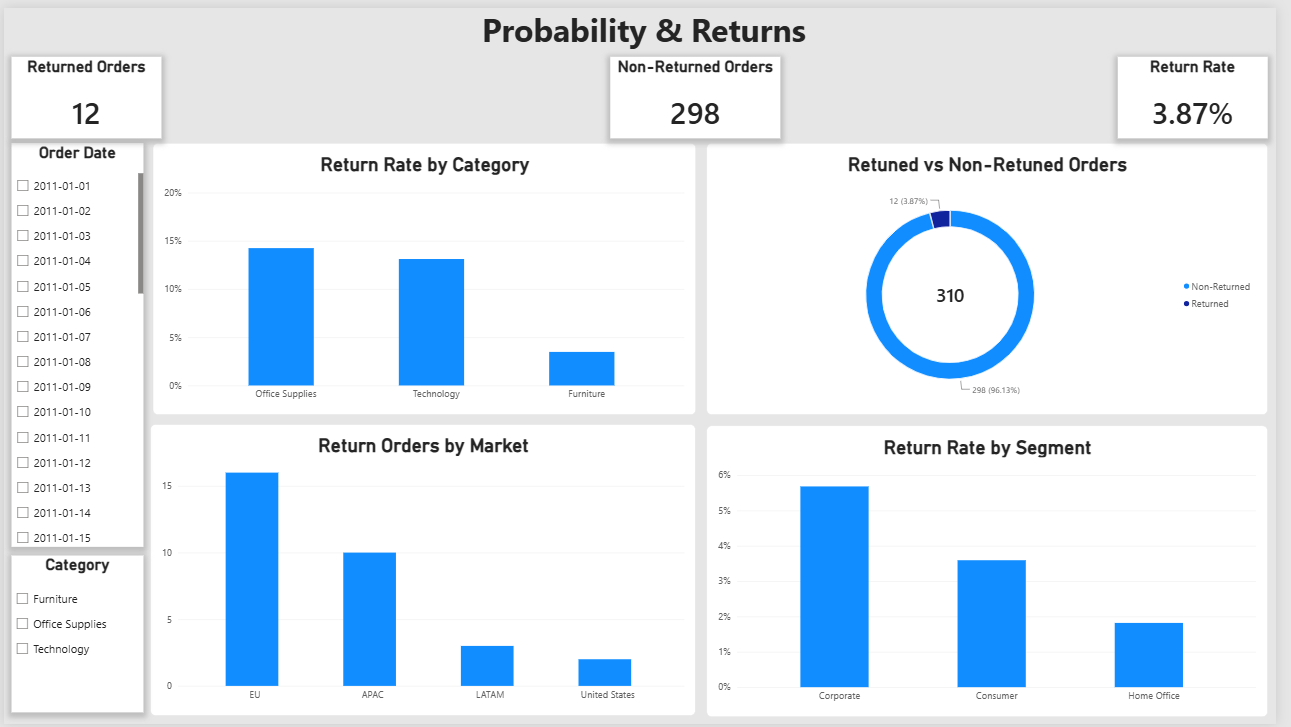

The page's visual inventory and layout, read from the dashboard file:
{"tool":"powerbi","page":{"name":"PROBABILITY & RETURNS","canvas":[1920,1080],"ordinal":2},"visuals":[{"type":"textbox","box":[10.6,0,1909.1,65.9],"z":0},{"type":"clusteredColumnChart","title":"Return Rate by Category","fields":{"Category":["superstore_db orders.category"],"Y":["superstore_db orders.Profit Margin"]},"box":[224.4,204.5,819.8,410.8],"z":1000},{"type":"donutChart","title":"Retuned vs Non-Retuned Orders","fields":{"Category":["superstore_db returns.ï»¿returned"],"Y":["CountNonNull(superstore_db returns.order_id)"]},"box":[1060.5,204.5,846.9,410.8],"z":2000},{"type":"clusteredColumnChart","title":" Return Orders by Market","fields":{"Category":["superstore_db returns.market"],"Y":["CountNonNull(superstore_db orders.order_id)"]},"box":[220.8,628,823.4,439.7],"z":3000},{"type":"slicer","title":"Order Date","fields":{"Values":["superstore_db orders.order_date"]},"box":[10.9,204.5,199.1,609.9],"z":4000},{"type":"slicer","title":"Category","fields":{"Values":["superstore_db orders.category"]},"box":[10.9,827,199.1,237.1],"z":5000},{"type":"cardVisual","title":"Returned Orders","fields":{"Data":["superstore_db orders.Retuned Orders"]},"box":[10.9,74.2,226,123],"z":6000},{"type":"cardVisual","title":"Non-Returned Orders","fields":{"Data":["superstore_db orders.Non-Returned Orders"]},"box":[915.7,74.2,257,123.1],"z":7000},{"type":"clusteredColumnChart","title":"Return Rate by Segment","fields":{"Category":["superstore_db orders.segment"],"Y":["superstore_db orders.Return Rate"]},"box":[1060.5,629.8,846.9,439.7],"z":8000},{"type":"cardVisual","title":"Return Rate","fields":{"Data":["superstore_db orders.Return Rate"]},"box":[1681.2,74.2,226,123],"z":9000}]}

Visuals, with their boxes in screenshot pixels (x1, y1, x2, y2), scaled from the page's 1920x1080 canvas onto the 1291x727 screenshot:
textbox: detection(7, 0, 1290, 44)
"Return Rate by Category" clusteredColumnChart: detection(151, 138, 702, 414)
"Retuned vs Non-Retuned Orders" donutChart: detection(713, 138, 1283, 414)
" Return Orders by Market" clusteredColumnChart: detection(148, 423, 702, 719)
"Order Date" slicer: detection(7, 138, 141, 548)
"Category" slicer: detection(7, 557, 141, 716)
"Returned Orders" cardVisual: detection(7, 50, 159, 133)
"Non-Returned Orders" cardVisual: detection(616, 50, 789, 133)
"Return Rate by Segment" clusteredColumnChart: detection(713, 424, 1283, 720)
"Return Rate" cardVisual: detection(1130, 50, 1282, 133)
